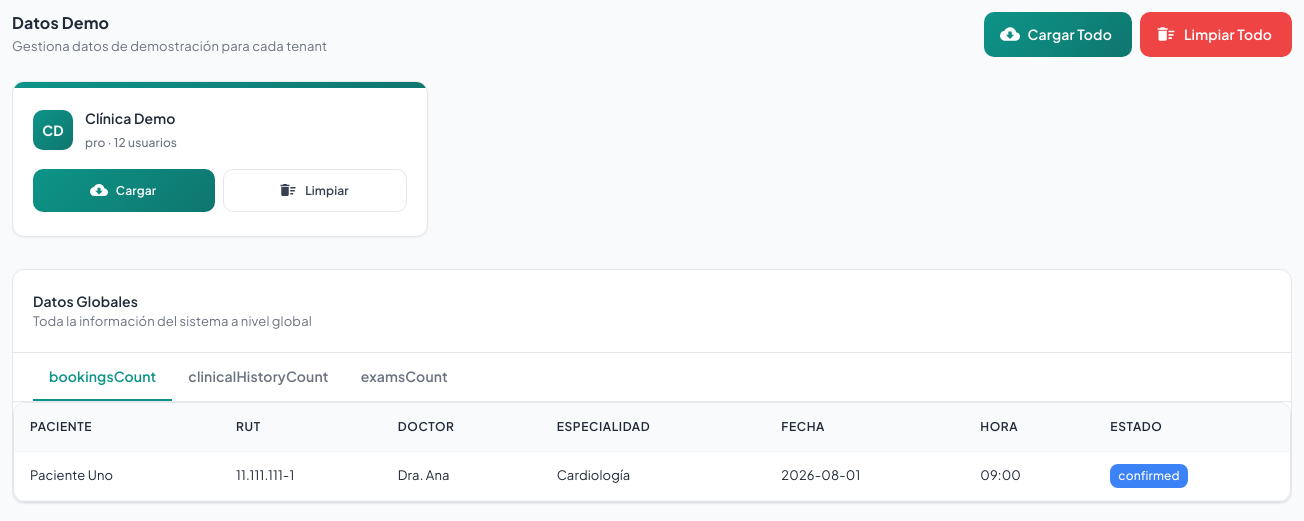
Test: SuperAdminDemoDataPage › switches to the lab requests tab
Check: the heading "Clínica Demo" is shown, box [85,108,177,130]
Click the tab "examsCount" at [404, 377], box [345,353,464,401]
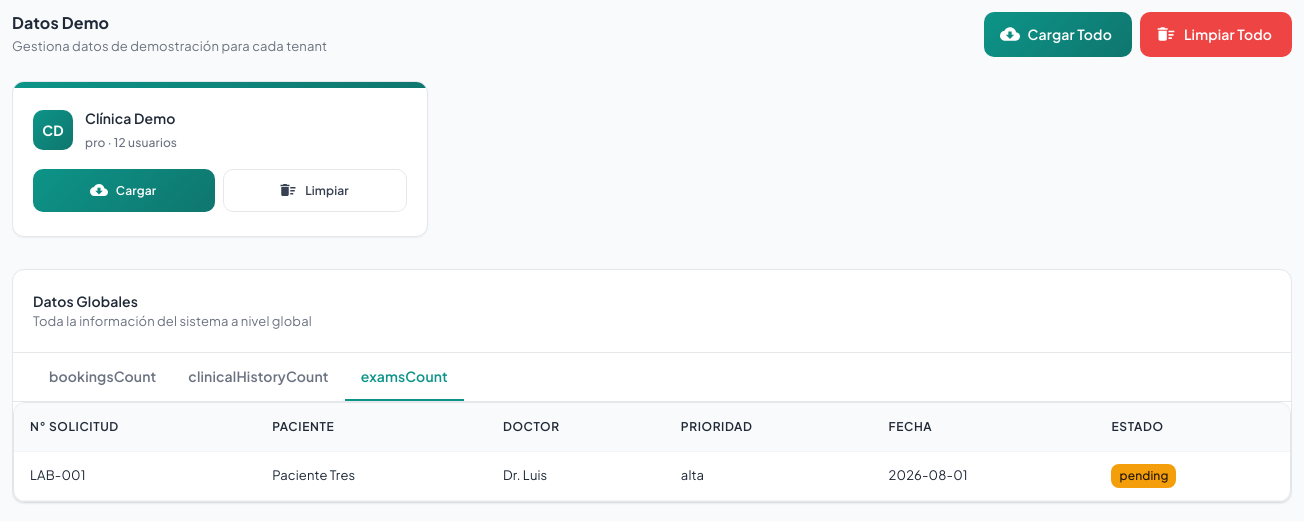
Check: the text "LAB-001" is shown, box [14,451,256,500]
Check: the text "Paciente Tres" is shown, box [256,451,487,500]
